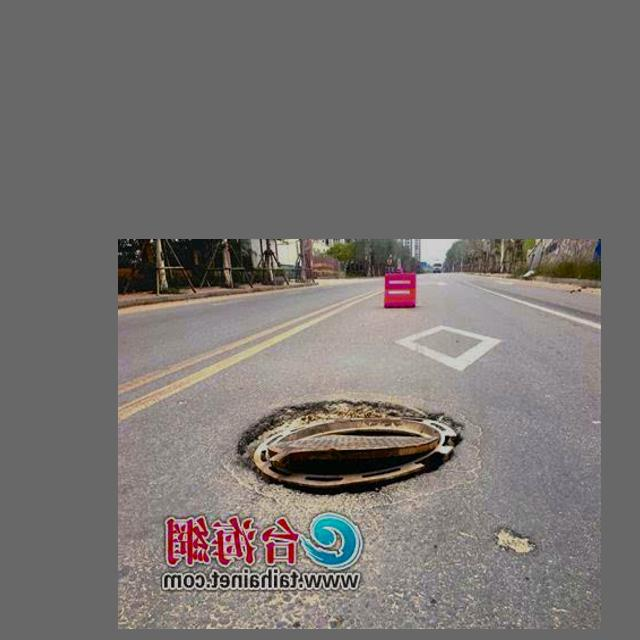circle: (203, 388, 513, 516)
